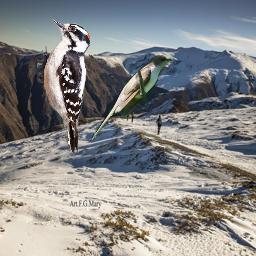Cuckoo: (90, 55, 172, 142)
Woodpecker: (37, 19, 92, 157)
